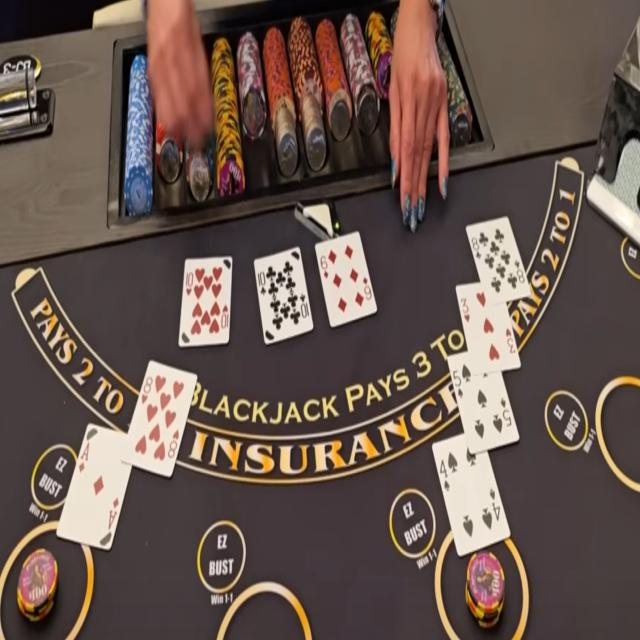10: (184, 270, 194, 288), (256, 270, 266, 286)
3: (460, 296, 469, 314)
4: (438, 458, 449, 480)
5: (452, 368, 462, 388)
6: (319, 254, 328, 271)
8: (142, 373, 154, 395), (471, 235, 480, 251)
A: (80, 439, 91, 462)
